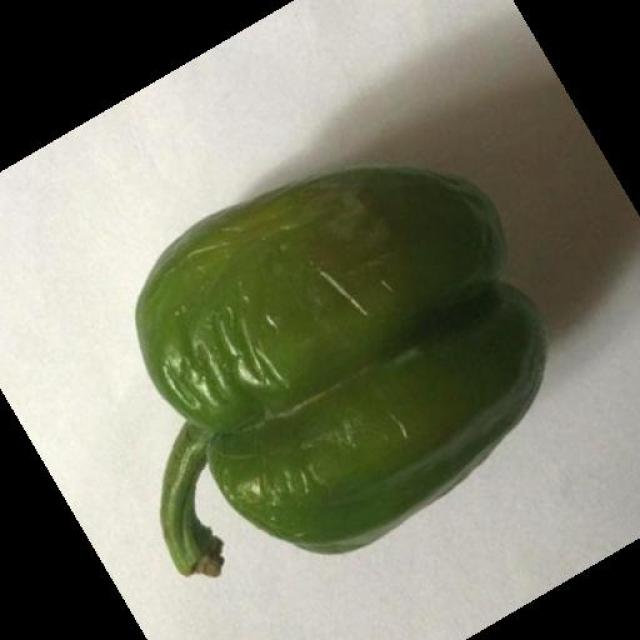Stale_Capsicum: (107, 178, 563, 569)
